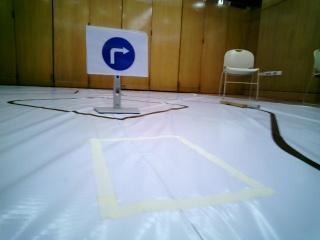right: (94, 29, 149, 75)
